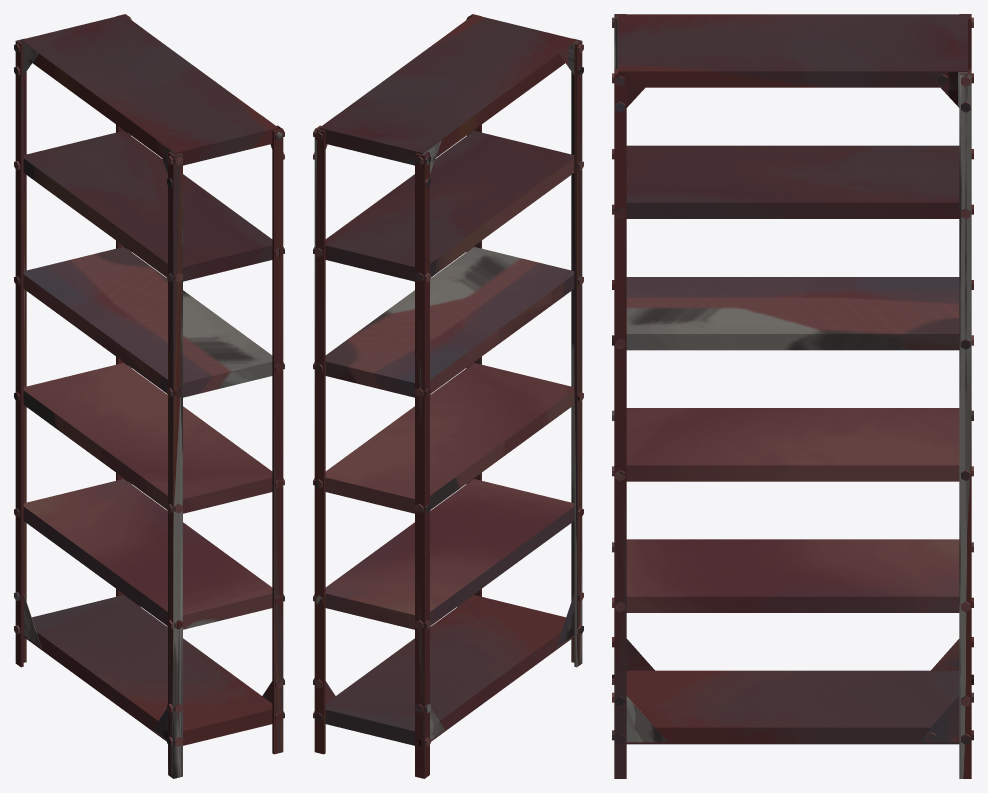
The model's file is metal shelving.fbx.
The picture shows the model from 3 angles, left to right: view 1: azimuth 30°, elevation 25°; view 2: azimuth 150°, elevation 25°; view 3: azimuth 270°, elevation 25°; orthographic projection. The views are drawn at different scales.
Visible parts, largest first — view 1: metal shelving; view 2: metal shelving; view 3: metal shelving.
Part boxes in pixels (box(x1,y1,x2,y2)): metal shelving: box(14, 14, 284, 778); metal shelving: box(313, 14, 583, 778); metal shelving: box(612, 14, 973, 778).
Bounding box in the file's own units: 235 × 1236 × 574.
